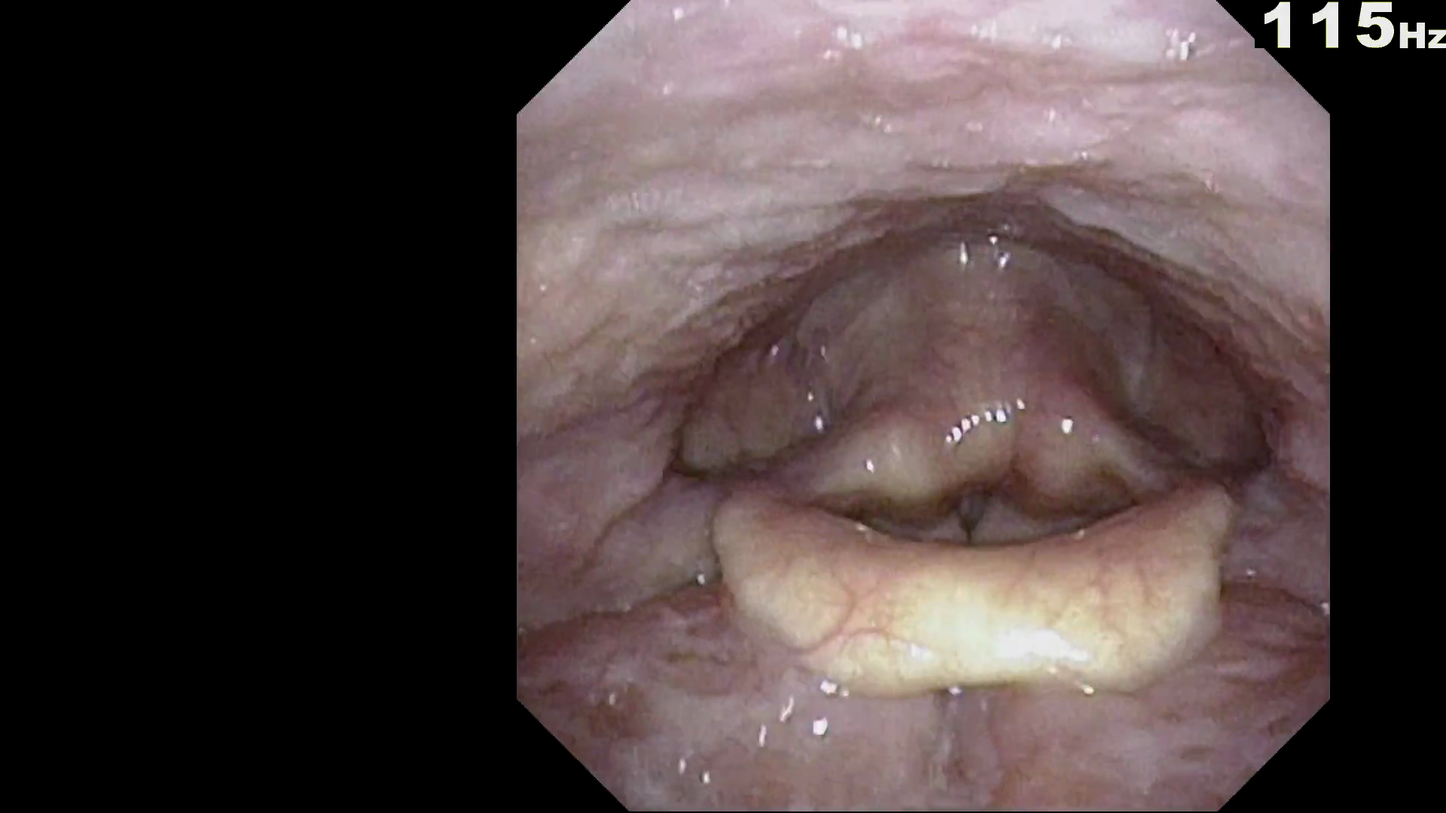epiglottis: (694, 511, 1250, 731)
trachea: (923, 469, 1015, 568)
